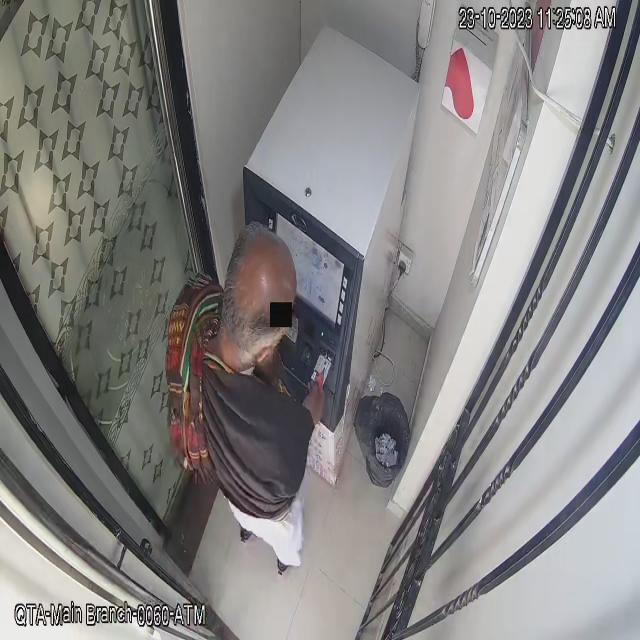atm-card: (308, 347, 337, 393)
